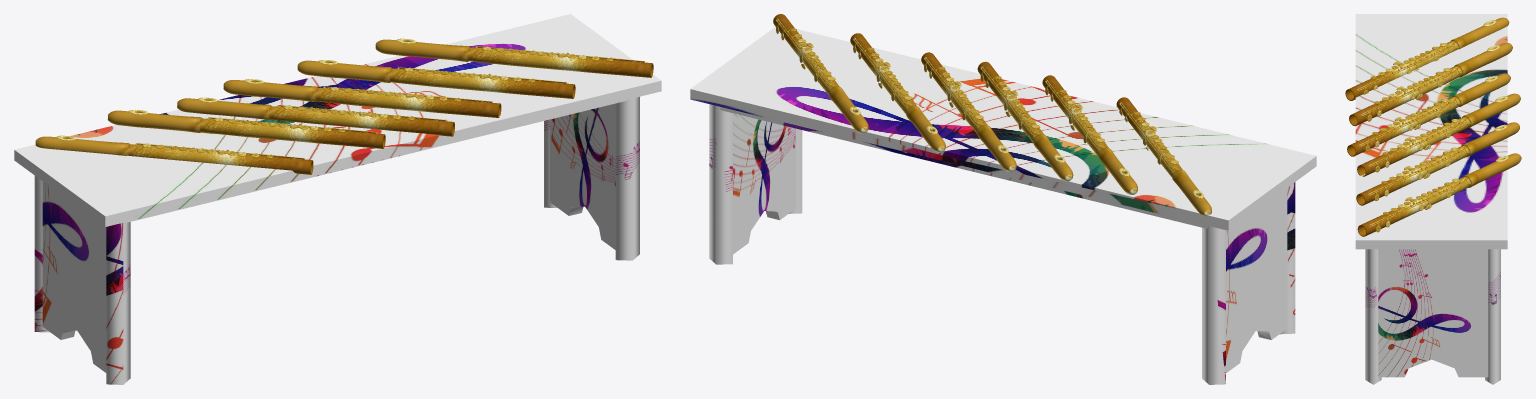
File: tableflute.glb
The picture shows the model from 3 angles, left to right: view 1: azimuth 30°, elevation 25°; view 2: azimuth 150°, elevation 25°; view 3: azimuth 270°, elevation 25°; orthographic projection. The views are drawn at different scales.
Visible parts, largest first — view 1: table, 10381_Flute_v4_L3, 10381_Flute_v4_L3.001, 10381_Flute_v4_L3.004, 10381_Flute_v4_L3.002, 10381_Flute_v4_L3.003, 10381_Flute_v4_L3.005; view 2: table, 10381_Flute_v4_L3.002, 10381_Flute_v4_L3.003, 10381_Flute_v4_L3.001, 10381_Flute_v4_L3.004, 10381_Flute_v4_L3, 10381_Flute_v4_L3.005; view 3: table, 10381_Flute_v4_L3.001, 10381_Flute_v4_L3.002, 10381_Flute_v4_L3, 10381_Flute_v4_L3.004, 10381_Flute_v4_L3.003, 10381_Flute_v4_L3.005.
Boxes of the visible parts, bbox=[...] form: table: bbox=[14, 14, 661, 384]; 10381_Flute_v4_L3: bbox=[375, 38, 653, 77]; 10381_Flute_v4_L3.001: bbox=[297, 60, 575, 98]; 10381_Flute_v4_L3.004: bbox=[107, 110, 385, 148]; 10381_Flute_v4_L3.002: bbox=[223, 79, 501, 117]; 10381_Flute_v4_L3.003: bbox=[177, 97, 454, 136]; 10381_Flute_v4_L3.005: bbox=[35, 135, 313, 174]; table: bbox=[690, 27, 1316, 384]; 10381_Flute_v4_L3.002: bbox=[921, 52, 1016, 171]; 10381_Flute_v4_L3.003: bbox=[977, 61, 1073, 181]; 10381_Flute_v4_L3.001: bbox=[850, 33, 945, 152]; 10381_Flute_v4_L3.004: bbox=[1042, 75, 1137, 194]; 10381_Flute_v4_L3: bbox=[773, 14, 868, 133]; 10381_Flute_v4_L3.005: bbox=[1116, 97, 1211, 216]; table: bbox=[1355, 14, 1507, 384]; 10381_Flute_v4_L3.001: bbox=[1356, 122, 1519, 205]; 10381_Flute_v4_L3.002: bbox=[1357, 93, 1520, 176]; 10381_Flute_v4_L3: bbox=[1357, 153, 1521, 236]; 10381_Flute_v4_L3.004: bbox=[1349, 43, 1512, 125]; 10381_Flute_v4_L3.003: bbox=[1347, 73, 1510, 156]; 10381_Flute_v4_L3.005: bbox=[1345, 17, 1509, 100].
Bounding box in the file's own units: 5.44 × 1.84 × 1.79.
7 materials, 7 textured.
